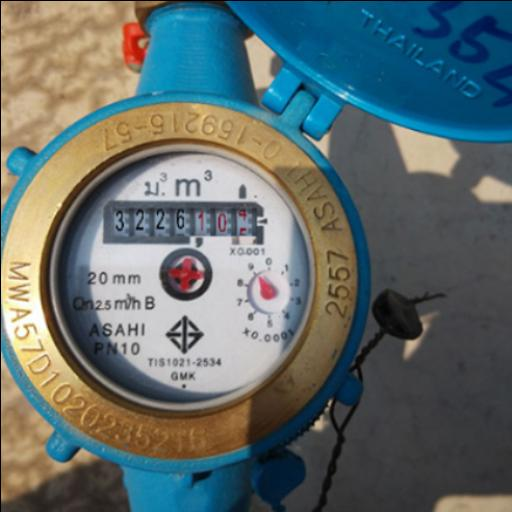0: (215, 208, 230, 234)
1: (195, 208, 210, 235)
2: (133, 208, 148, 236), (154, 208, 169, 236)
3: (112, 208, 128, 236)
4: (236, 207, 251, 235)
6: (174, 208, 189, 235)
border_water_meter_number: (102, 200, 263, 246)
